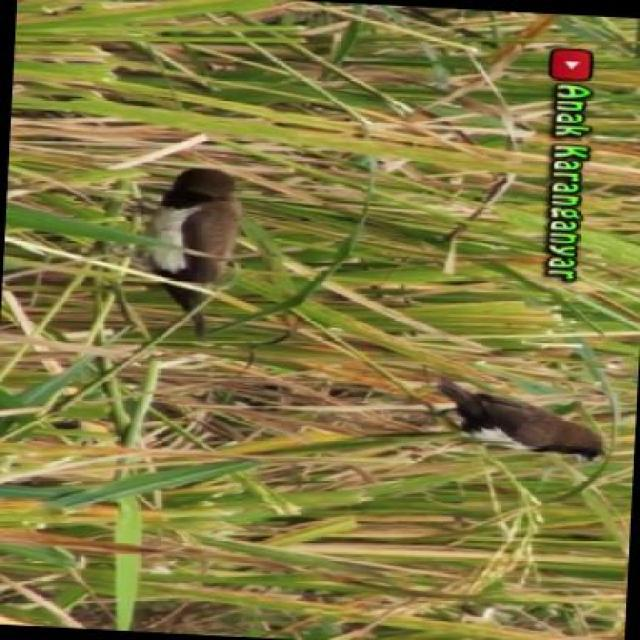Bird: (436, 361, 611, 470), (152, 161, 251, 351)
